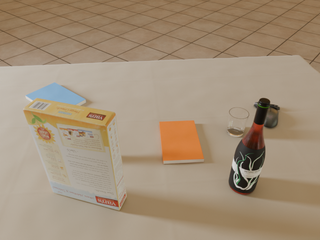book: (160, 121, 204, 164), (25, 83, 86, 106)
bottle: (229, 98, 271, 195)
box: (23, 98, 126, 210)
cup: (227, 108, 249, 137)
mouse: (254, 102, 280, 128)
